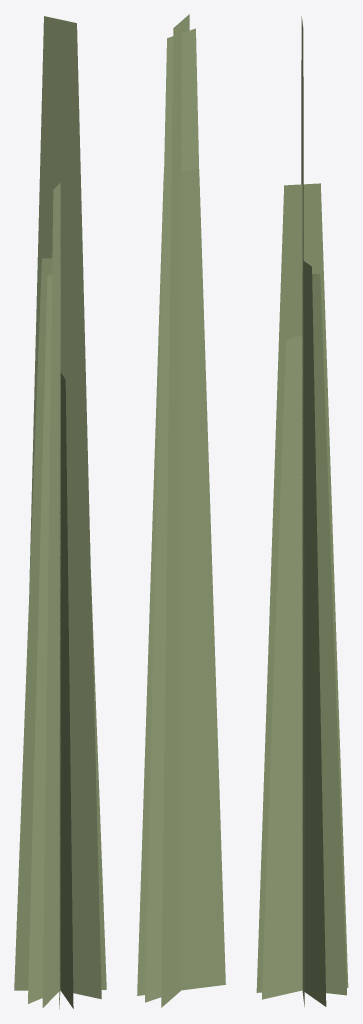
The model's file is rough_tuft_v1_near.gltf.
3 views of the same model, side by side, from view 1: azimuth 30°, elevation 25°; view 2: azimuth 210°, elevation 25°; view 3: azimuth 330°, elevation 25° (orthographic).
Parts seen in each view (by area): view 1: cover; view 2: cover; view 3: cover.
Part boxes in pixels (x1,y1,x2,y2): cover: [14, 16, 106, 1009]; cover: [137, 14, 225, 1007]; cover: [256, 16, 348, 1006].
Size of the model in its own units: 0.0495 by 0.5782 by 0.0486.
